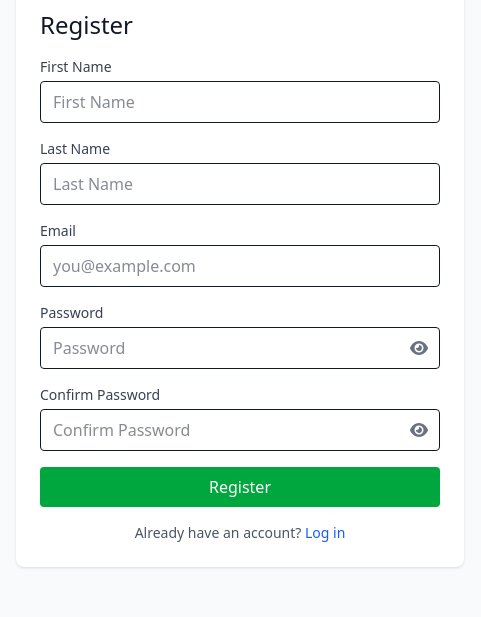
Test: RegisterForm component › shows error when first or last name missing
What coordinates should you click on to do the following:
click the button "Register"
I would click on:
 (240, 487)
Its box is [40,467,440,507].
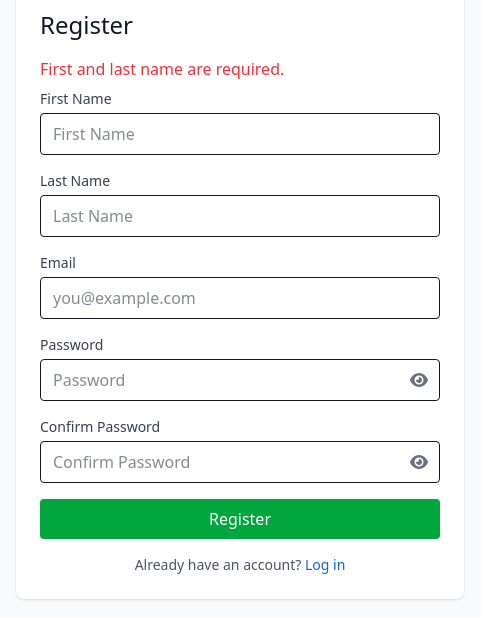
Check: the text "First and last name are required." is shown, box [40,58,284,80]
